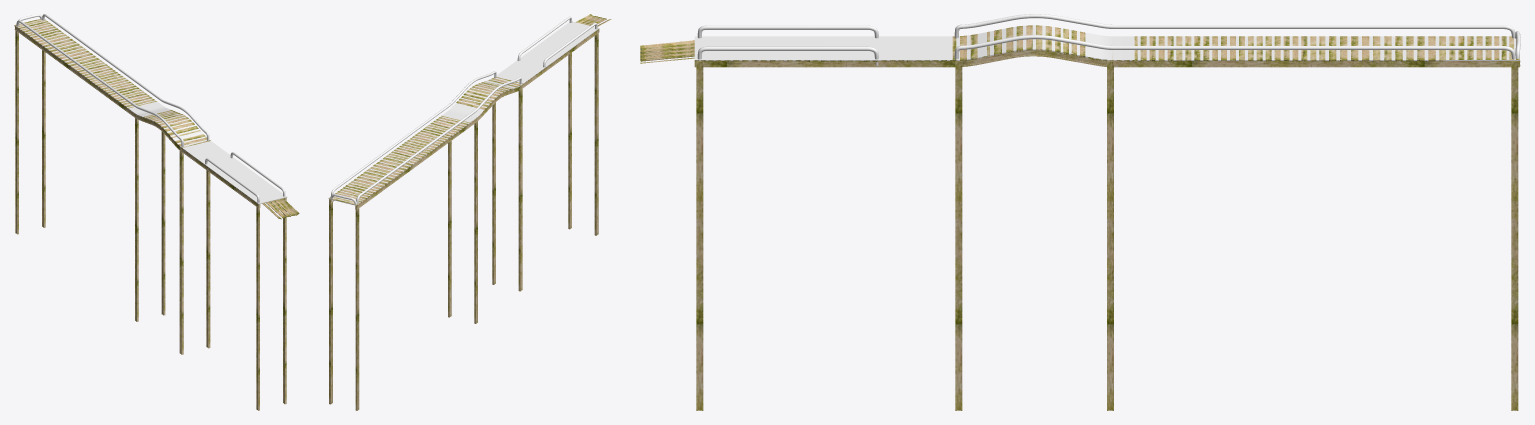
File: Track 1.fbx
3 views of the same model, side by side, from view 1: azimuth 30°, elevation 25°; view 2: azimuth 150°, elevation 25°; view 3: azimuth 270°, elevation 25° (orthographic). The views are drawn at different scales.
Parts seen in each view (by area): view 1: Col_0, _0_New, Ok_1, Ok_9, Ok_6, Ok_8, Ok_3, Ok_7, Ok_5, Ok_4, Ok_2, Pipe (+1 smaller); view 2: Col_0, _0_New, Ok_1, Ok_3, Ok_5, Ok_9, Ok_2, Ok_7, Ok_8, Ok_6, Ok_4, Pipe_1 (+1 smaller); view 3: Col_0, _0_New, Ok, Ok_2, Ok_4, Ok_8, Pipe_1, Pipe, Ok_6, Pipe_3, Pipe_2.
Boxes of the visible parts, <box> form: Col_0: <box>15,19,286,204</box>; _0_New: <box>14,19,284,204</box>; Ok_1: <box>14,26,260,208</box>; Ok_9: <box>179,147,183,354</box>; Ok_6: <box>161,131,165,315</box>; Ok_8: <box>206,170,210,348</box>; Ok_3: <box>15,27,18,234</box>; Ok_7: <box>135,115,138,321</box>; Ok_5: <box>256,204,259,410</box>; Ok_4: <box>283,209,286,404</box>; Ok_2: <box>42,50,45,227</box>; Pipe: <box>16,20,183,147</box>; Col_0: <box>328,21,599,205</box>; _0_New: <box>329,29,598,205</box>; Ok_1: <box>355,29,599,209</box>; Ok_3: <box>355,205,359,410</box>; Ok_5: <box>594,30,598,235</box>; Ok_9: <box>518,86,522,291</box>; Ok_2: <box>329,200,332,404</box>; Ok_7: <box>474,118,477,323</box>; Ok_8: <box>492,102,495,284</box>; Ok_6: <box>448,141,451,317</box>; Ok_4: <box>568,53,571,229</box>; Pipe_1: <box>331,71,496,201</box>; Col_0: <box>694,25,1519,60</box>; _0_New: <box>694,25,1519,61</box>; Ok: <box>694,50,1520,67</box>; Ok_2: <box>1511,61,1518,410</box>; Ok_4: <box>696,61,703,410</box>; Ok_8: <box>955,61,962,410</box>; Pipe_1: <box>954,35,1515,59</box>; Pipe: <box>954,14,1515,38</box>; Ok_6: <box>1107,61,1113,410</box>; Pipe_3: <box>697,46,878,65</box>; Pipe_2: <box>697,25,878,38</box>.
Size of the model in its own units: 201 by 1469 by 3131.
